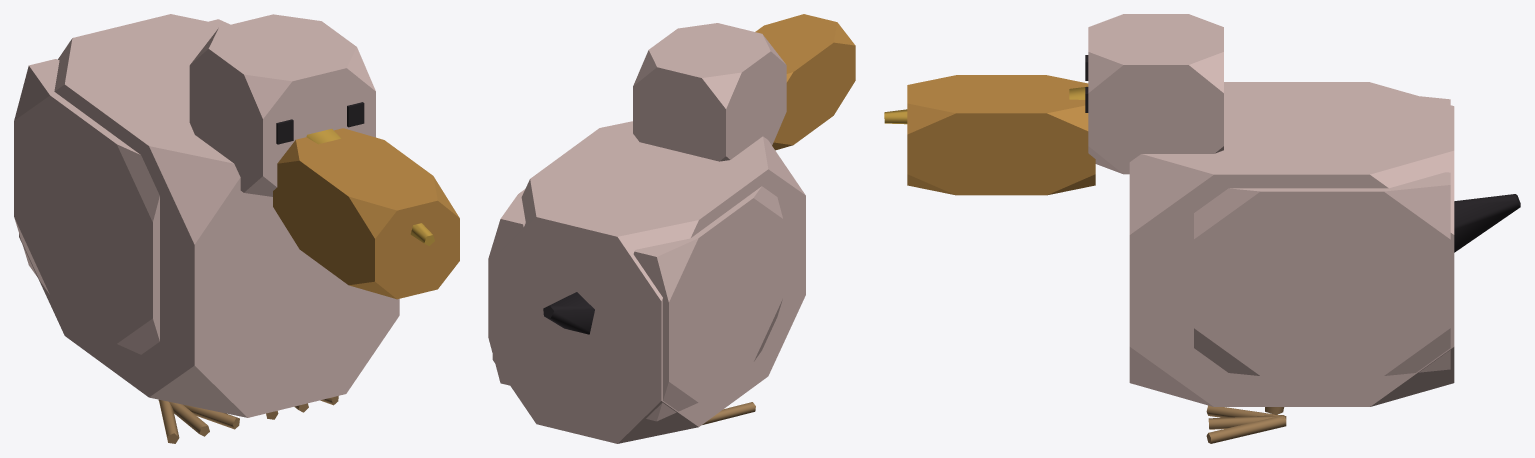
The model's file is original-pelican.glb.
3 renders of one model, left to right at view 1: azimuth 30°, elevation 25°; view 2: azimuth 150°, elevation 25°; view 3: azimuth 270°, elevation 25°, orthographic. The views are drawn at different scales.
Visible parts, largest first — view 1: pelican; view 2: pelican; view 3: pelican.
Boxes of the visible parts, left/top/right/bottom form: pelican: left=14, top=14, right=459, bottom=443; pelican: left=488, top=14, right=855, bottom=443; pelican: left=884, top=14, right=1520, bottom=443.
Size of the model in its own units: 0.62 by 1.08 by 1.69.
